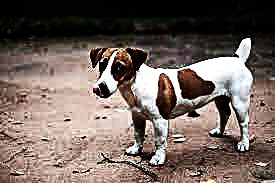dog: (85, 36, 259, 167)
